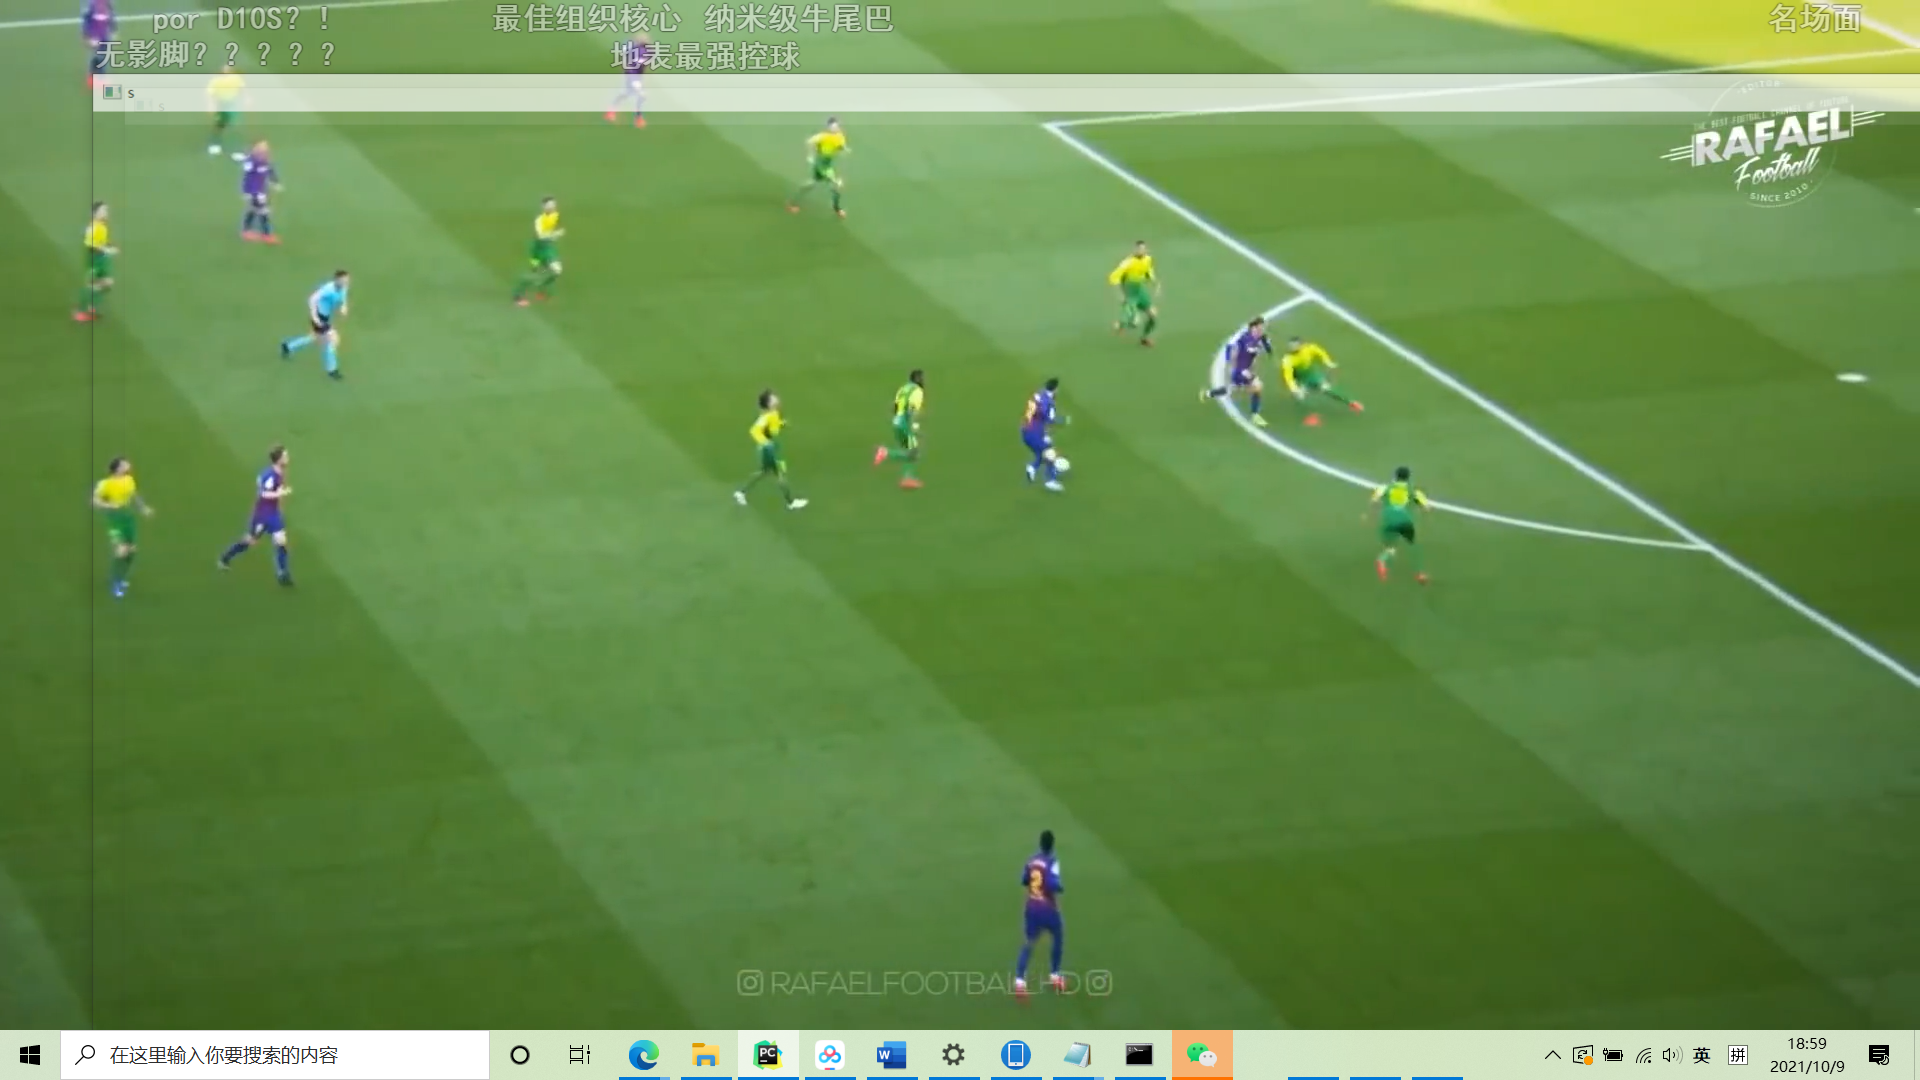ft: (1052, 455, 1072, 473)
